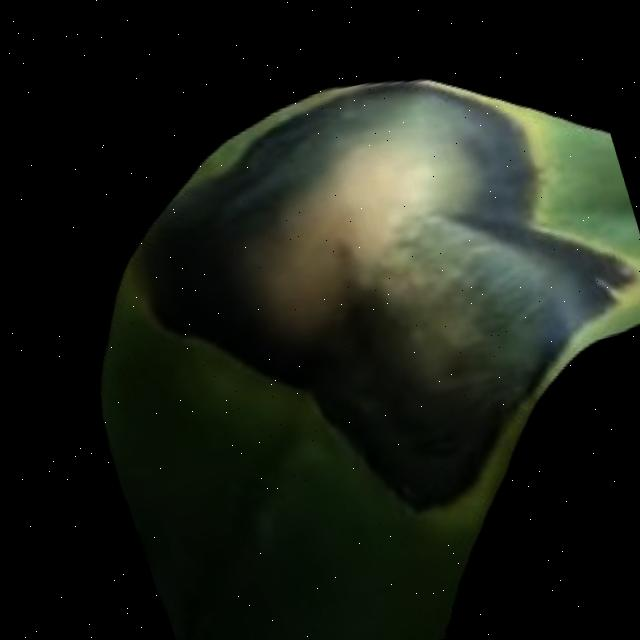mite: (350, 292, 640, 638), (225, 107, 330, 184), (394, 410, 471, 470), (583, 245, 640, 299), (402, 419, 459, 462)
sunburn: (91, 29, 640, 555)
